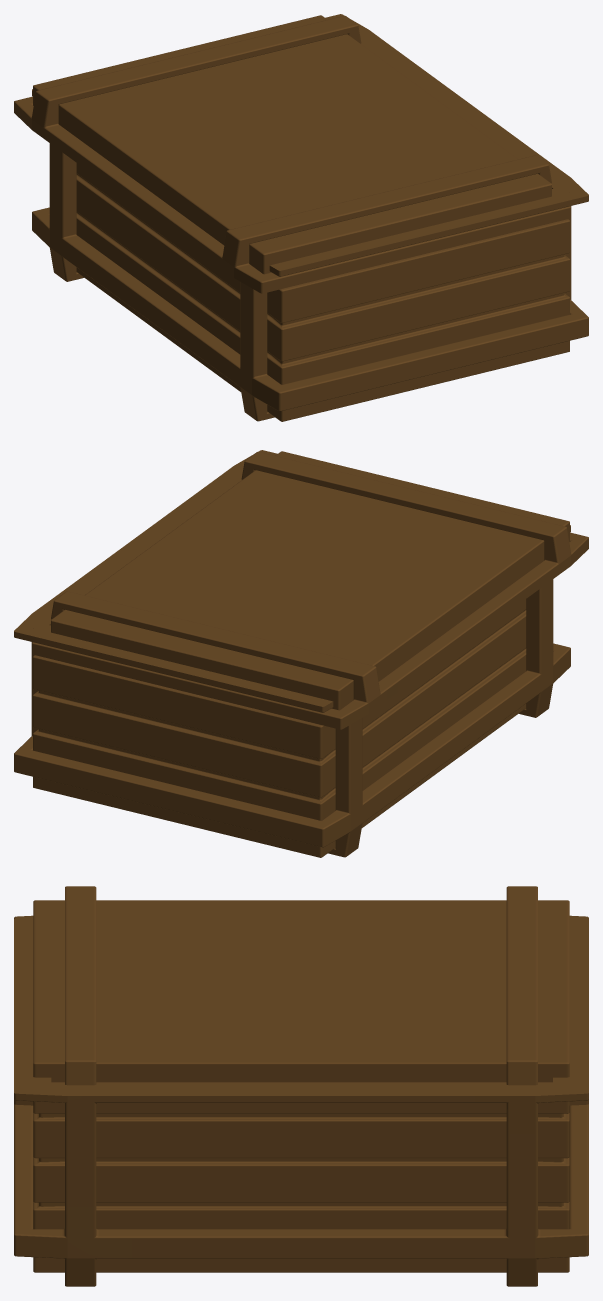
The model's file is mvp_chest.fbx.
The picture shows the model from 3 angles, top to bottom: view 1: azimuth 30°, elevation 25°; view 2: azimuth 150°, elevation 25°; view 3: azimuth 270°, elevation 25°; orthographic projection. The views are drawn at different scales.
Visible parts, largest first — view 1: Lid, Trunk; view 2: Lid, Trunk; view 3: Trunk, Lid.
Boxes of the visible parts, x1,y1,x2,y2 form: Lid: (14,15,570,293); Trunk: (32,14,588,421); Lid: (32,451,588,729); Trunk: (14,450,570,857); Trunk: (14,917,588,1286); Lid: (14,886,588,1105).
Bounding box in the file's own units: 168 × 88.85 × 214.
